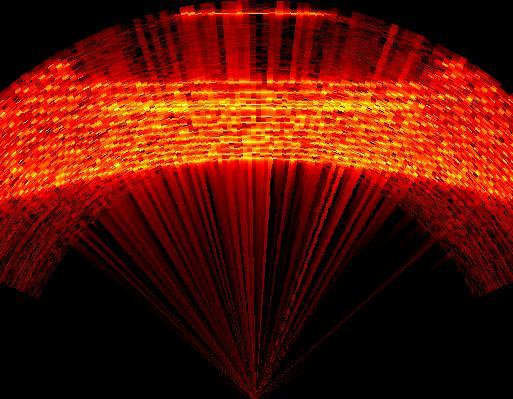pipe: (62, 14, 450, 86)
